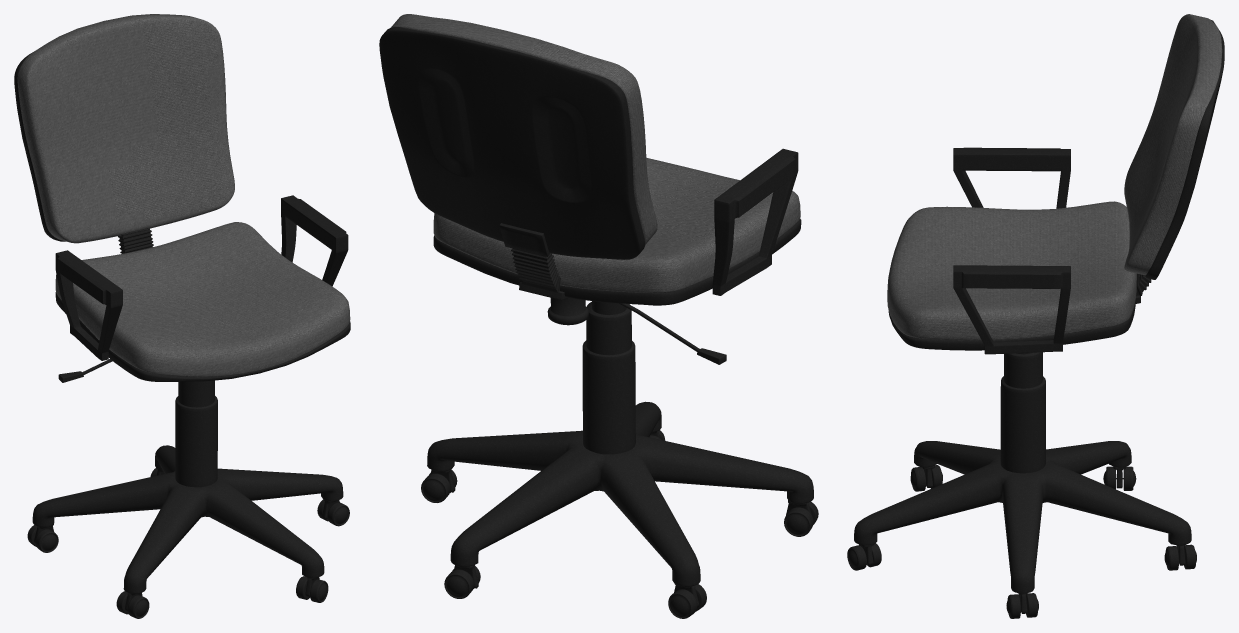
The model's file is OfficeChair.glb.
3 renders of one model, left to right at view 1: azimuth 30°, elevation 25°; view 2: azimuth 150°, elevation 25°; view 3: azimuth 270°, elevation 25°, orthographic. The views are drawn at different scales.
Visible parts, largest first — view 1: Office Chair; view 2: Office Chair; view 3: Office Chair.
Boxes of the visible parts, x1,y1,x2,y2 form: Office Chair: (14, 14, 350, 618); Office Chair: (379, 14, 818, 618); Office Chair: (847, 14, 1224, 618).
Bounding box in the file's own units: 0.5425 × 0.9022 × 0.617.
Materials: 2 (2 with a texture image).
